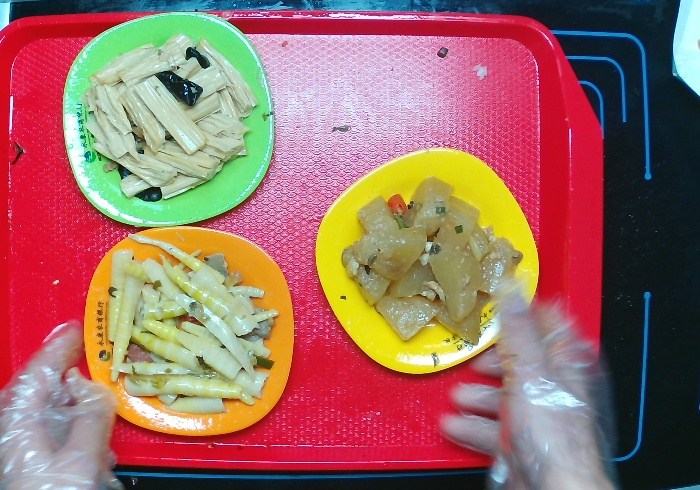YKMZ-Huang_Se_Fang_Die: (314, 146, 541, 375)
YKMZ-Ju_Se_Fang_Die: (82, 224, 296, 437)
YKMZ-Lv_Se_Fang_Die: (61, 10, 276, 228)
